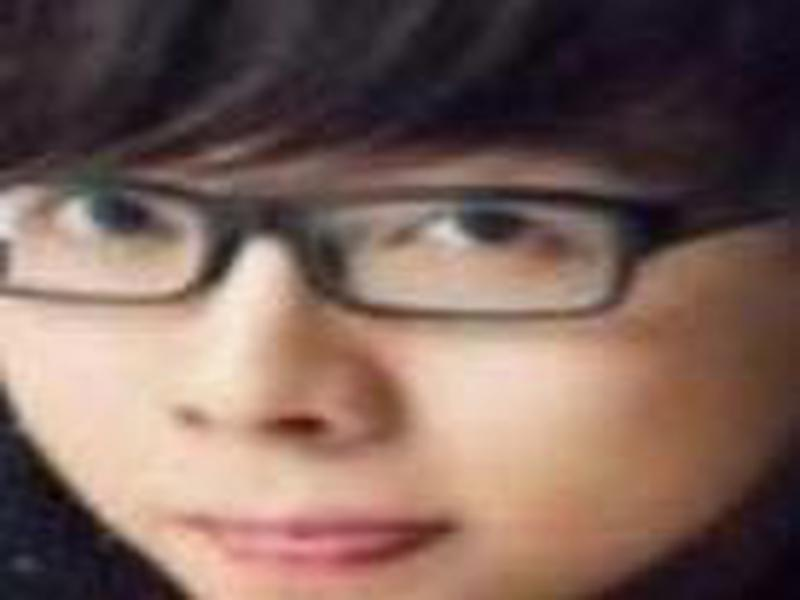without_mask: (4, 112, 768, 589)
